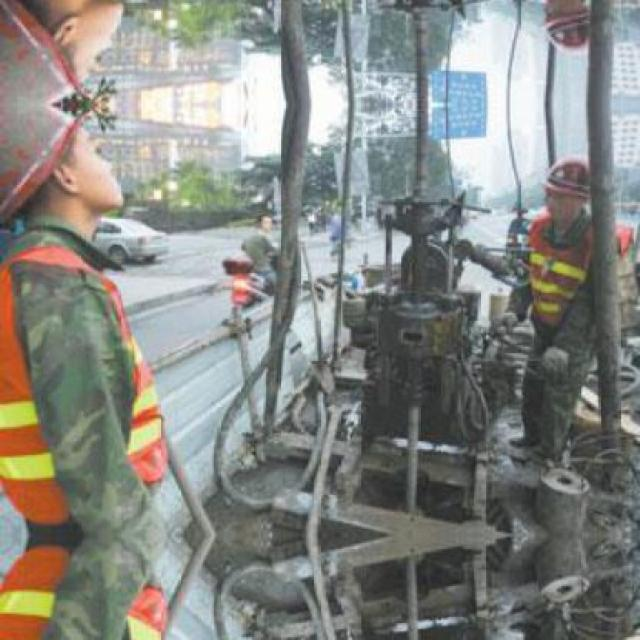Reflective-Jacket: (4, 231, 170, 529), (512, 213, 622, 344)
Safety-Helmet: (0, 97, 106, 224), (532, 150, 600, 207)
